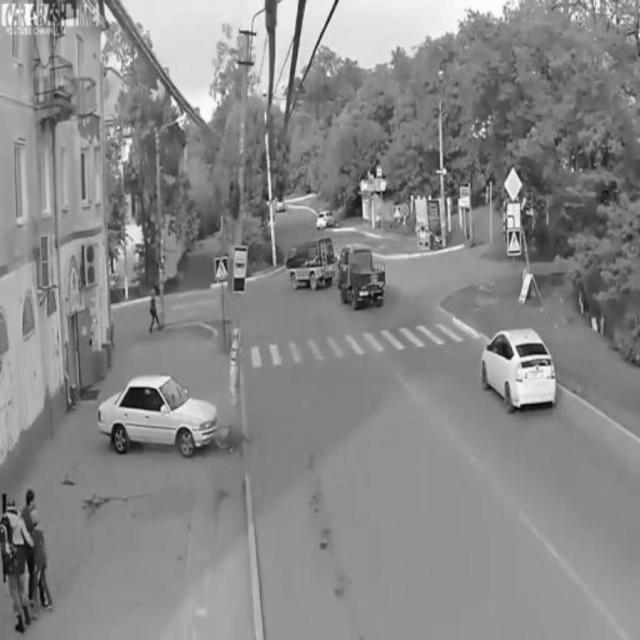person: (2, 493, 34, 633), (27, 512, 57, 620), (147, 283, 162, 334)
vehicle: (100, 375, 221, 457), (479, 323, 559, 417), (336, 242, 390, 309), (284, 237, 338, 292), (314, 205, 338, 233)
